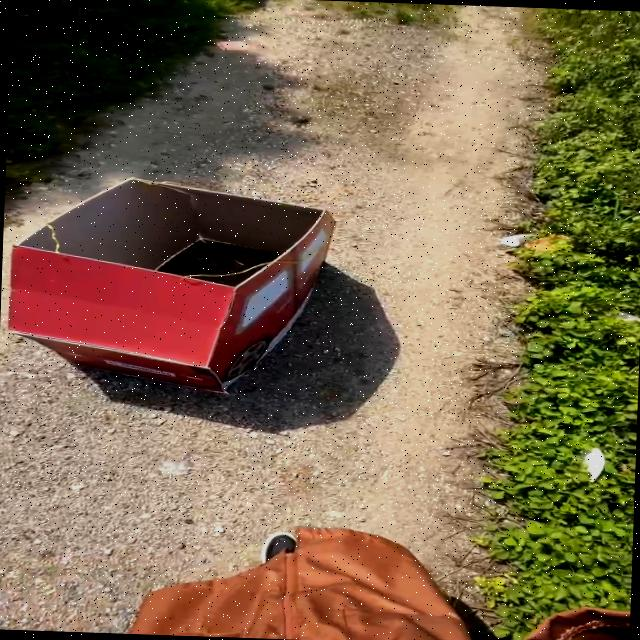red_car: (0, 152, 386, 409)
